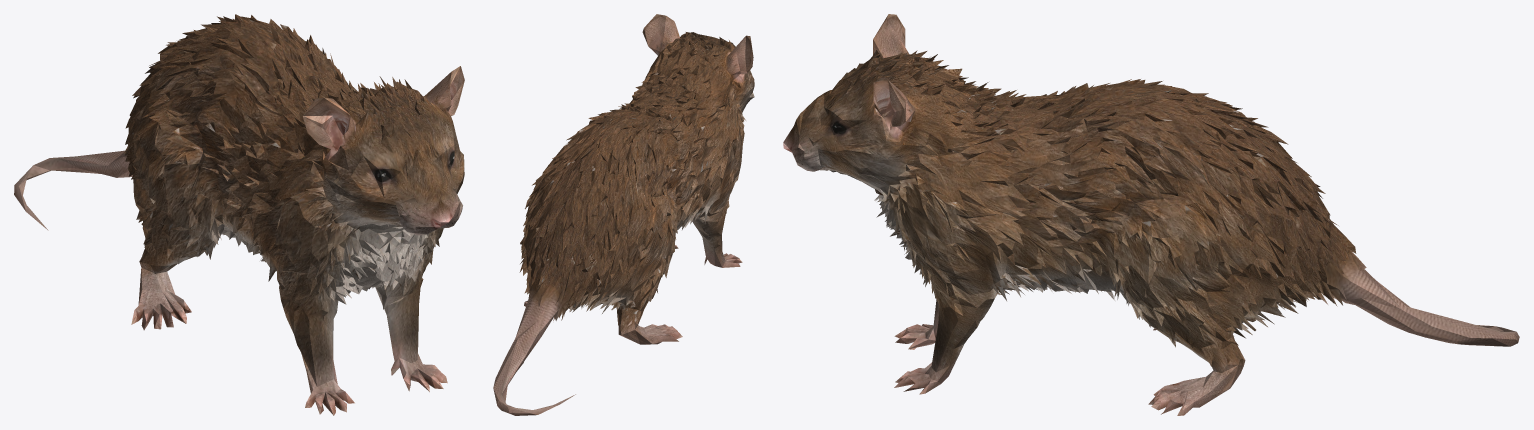
The model's file is rat.glb.
The picture shows the model from 3 angles, left to right: view 1: azimuth 30°, elevation 25°; view 2: azimuth 150°, elevation 25°; view 3: azimuth 270°, elevation 25°; orthographic projection. The views are drawn at different scales.
Parts seen in each view (by area): view 1: output_unwrapped; view 2: output_unwrapped; view 3: output_unwrapped.
Part boxes in pixels (box(x1,y1,x2,y2)): output_unwrapped: box(14, 14, 464, 415); output_unwrapped: box(493, 14, 754, 415); output_unwrapped: box(783, 14, 1519, 415).
Bounding box in the file's own units: 0.0869 × 0.12 × 0.2519.
Materials: 1 (1 with a texture image).
